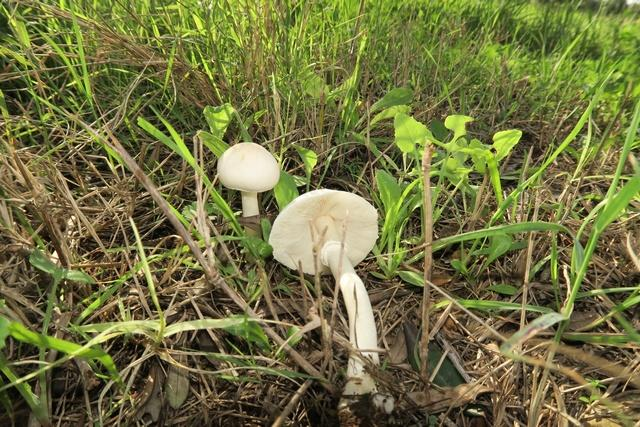poisonous_mushroom: (267, 187, 379, 278), (216, 140, 280, 217)
